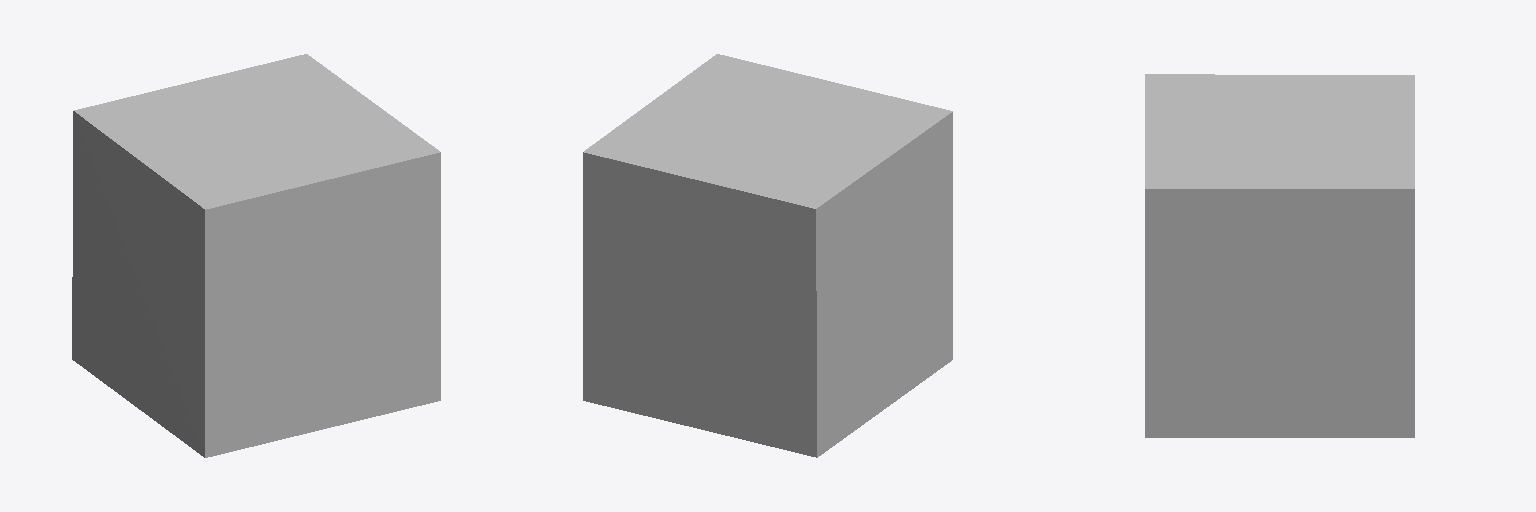
Rendered from cornell_box.obj.
The picture shows the model from 3 angles: view 1: azimuth 30°, elevation 25°; view 2: azimuth 150°, elevation 25°; view 3: azimuth 270°, elevation 25°; orthographic projection.
Parts seen in each view (by area): view 1: cornell_box; view 2: cornell_box, small_box, large_box; view 3: cornell_box.
Part boxes in pixels (x1,y1,x2,y2): cornell_box: (72, 54, 440, 457); cornell_box: (583, 54, 952, 457); small_box: (618, 305, 704, 383); large_box: (705, 232, 782, 308); cornell_box: (1145, 74, 1414, 437).
Size of the model in its own units: 556 by 559 by 549.